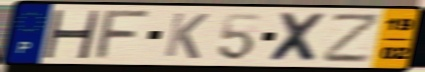5: (216, 11, 265, 61)
F: (91, 9, 155, 61)
H: (40, 8, 103, 60)
K: (161, 11, 211, 61)
X: (266, 10, 331, 64)
Z: (321, 12, 384, 64)
